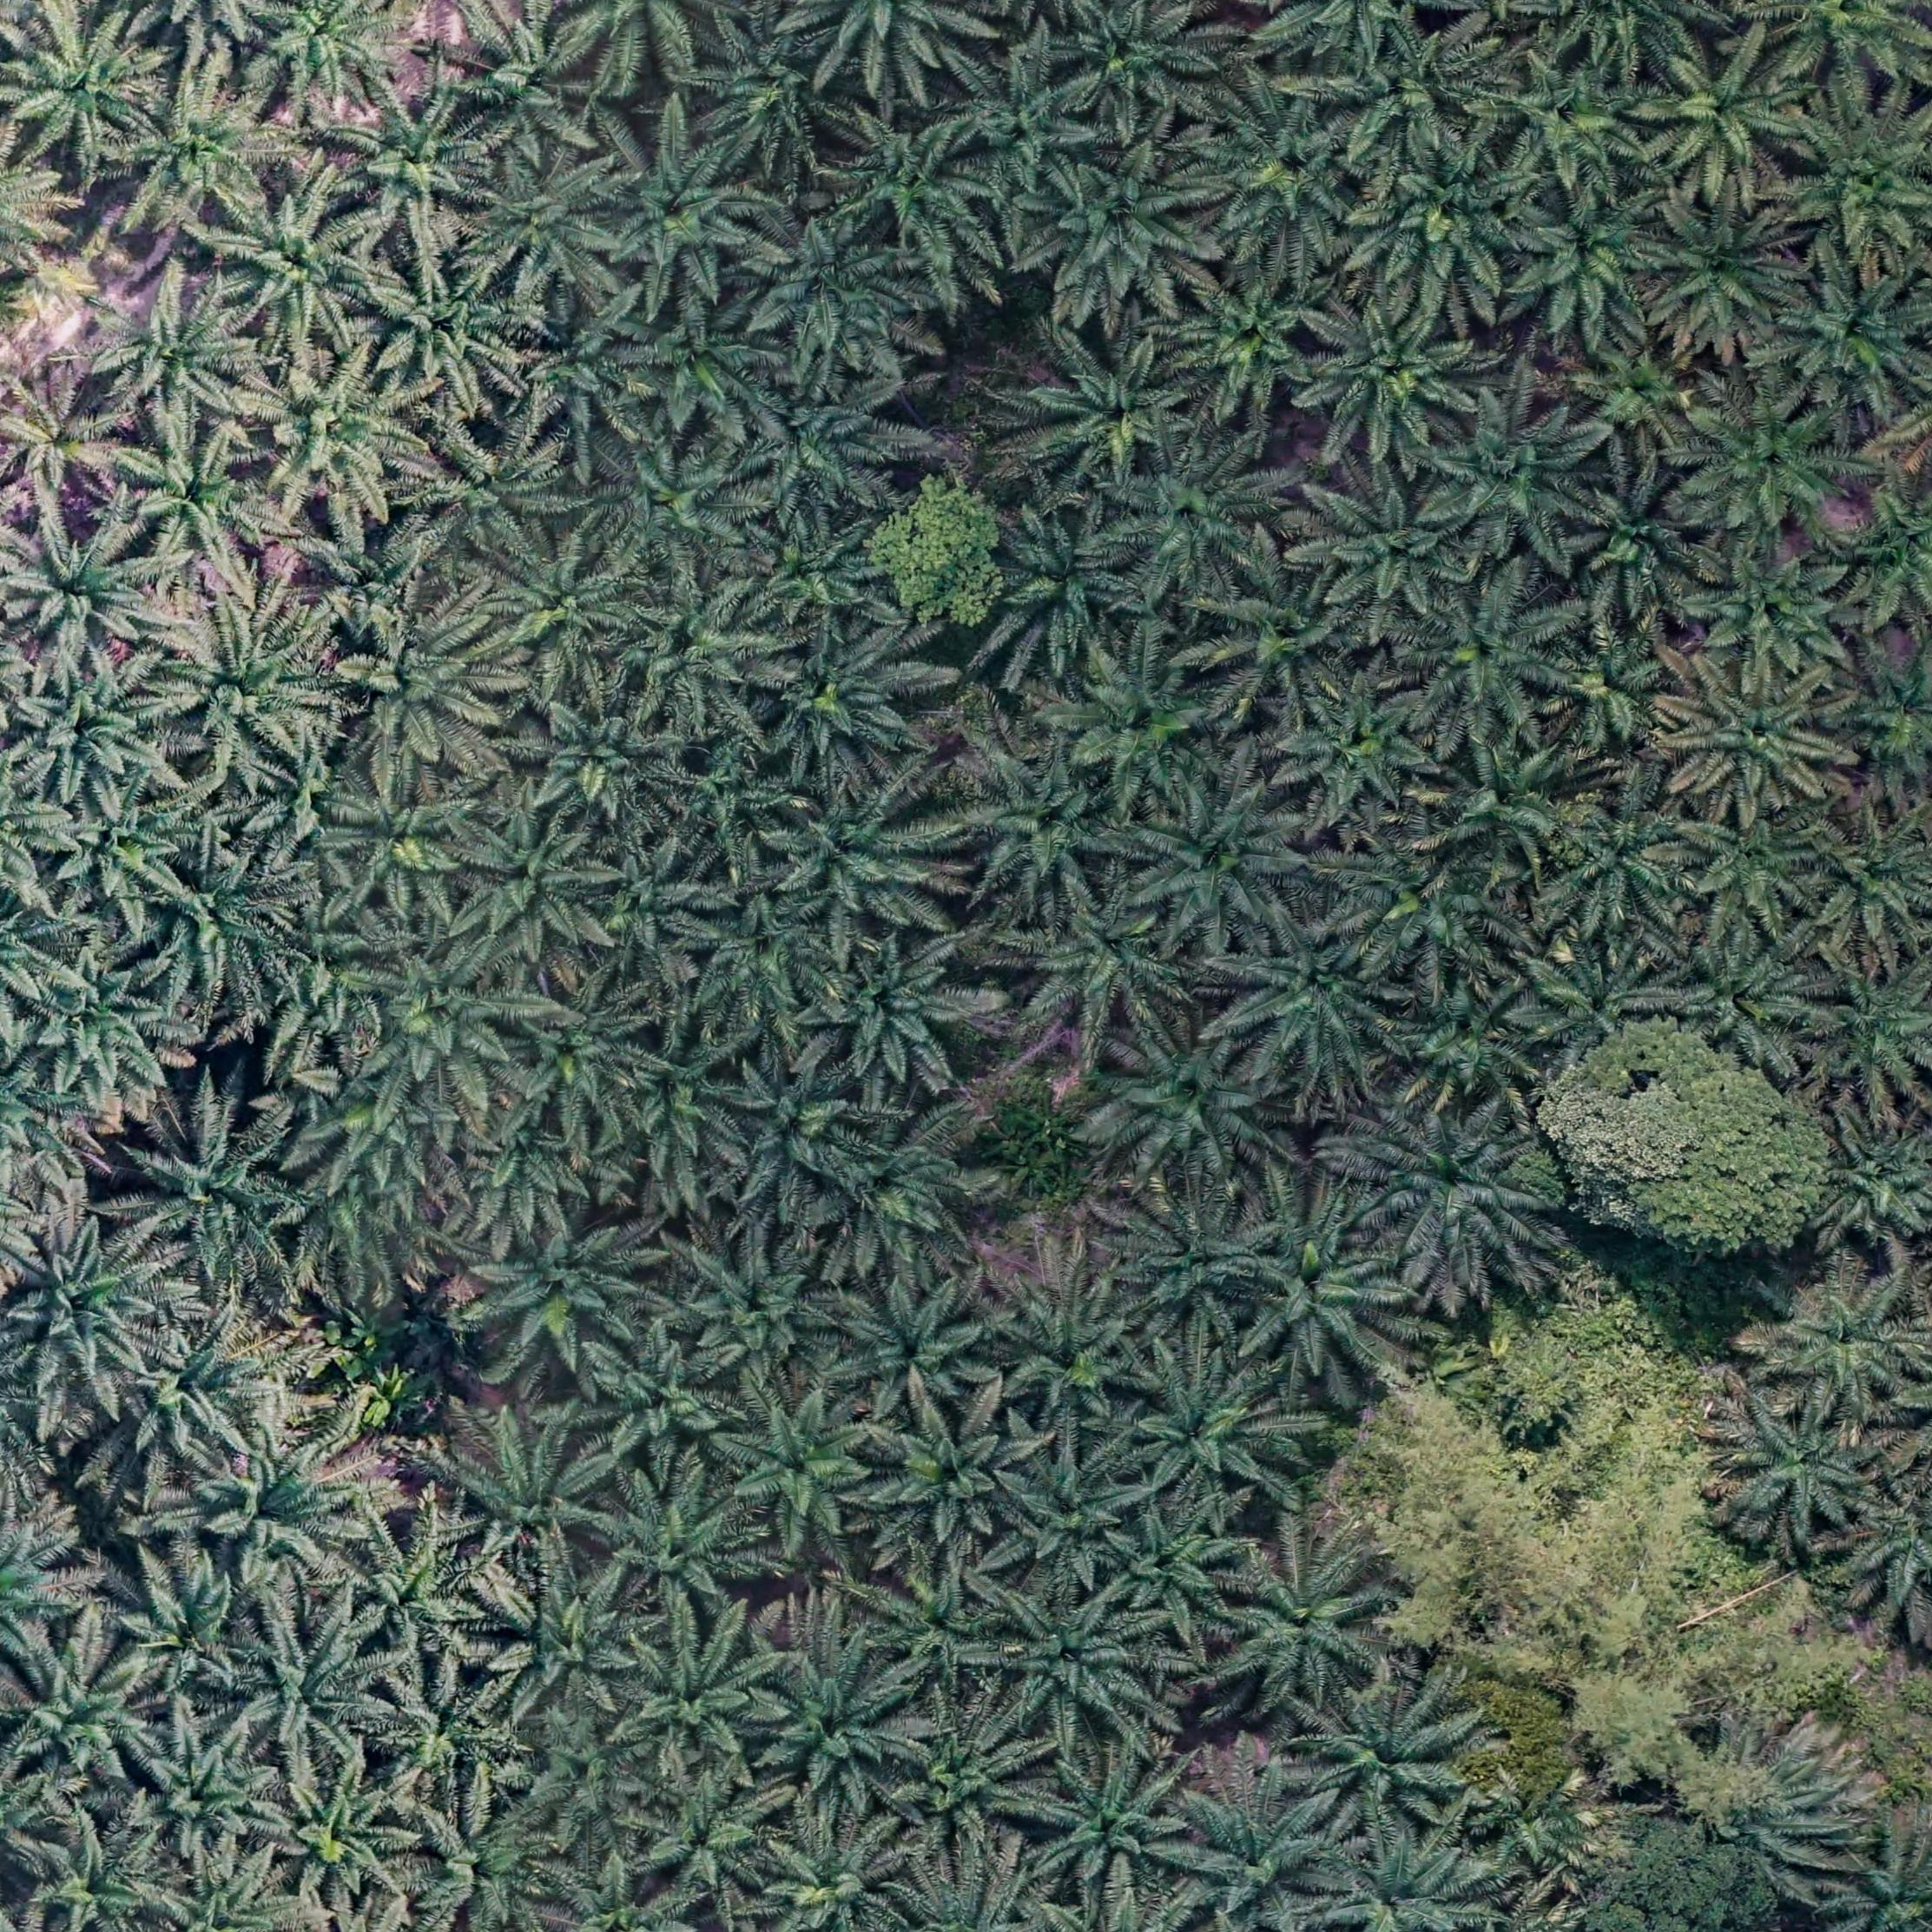palmtree: (5, 1338, 1074, 1925), (961, 957, 1509, 1905), (2, 1035, 554, 1927), (1490, 30, 1927, 1010), (1194, 12, 1925, 568), (317, 639, 924, 1224), (1215, 134, 1665, 895), (511, 1376, 1000, 1923), (99, 21, 534, 556), (1330, 543, 1766, 1054), (464, 895, 936, 1352), (559, 587, 955, 1109), (589, 1269, 959, 1780), (922, 1378, 1263, 1916), (962, 53, 1283, 625), (359, 1224, 821, 1601), (19, 1242, 465, 1629), (7, 513, 382, 964), (1672, 1258, 1932, 1898), (1014, 881, 1366, 1336), (27, 1546, 430, 1928), (0, 39, 308, 518), (1511, 982, 1932, 1325), (1585, 19, 1913, 456), (1509, 1612, 1927, 1914), (948, 731, 1276, 1116), (1169, 844, 1511, 1196), (1270, 396, 1594, 761), (283, 913, 614, 1260), (667, 563, 964, 948), (4, 292, 322, 648), (1284, 731, 1599, 1067), (483, 1566, 770, 1932), (909, 12, 1205, 366), (285, 1509, 536, 1920), (1297, 600, 1601, 936), (952, 1238, 1228, 1591), (1626, 479, 1914, 805), (1504, 878, 1803, 1180), (1198, 1663, 1520, 1928), (303, 1263, 579, 1569), (294, 731, 556, 1047), (1001, 366, 1263, 683), (527, 62, 824, 340), (419, 527, 683, 840), (1702, 1263, 1930, 1624), (793, 14, 1042, 336), (959, 455, 1219, 761), (1730, 21, 1932, 414), (1051, 747, 1311, 1047), (812, 1644, 1086, 1925), (1074, 1316, 1316, 1629), (1104, 1152, 1368, 1435), (1652, 872, 1913, 1159), (681, 1000, 954, 1270), (303, 140, 529, 462), (545, 90, 796, 379), (1279, 9, 1553, 271), (1297, 1088, 1573, 1345), (1069, 952, 1315, 1237), (1316, 83, 1550, 382), (851, 471, 1054, 810), (720, 741, 962, 1019), (313, 30, 531, 338), (1456, 1313, 1721, 1564), (1541, 1026, 1836, 1247), (1346, 1366, 1573, 1652), (639, 1230, 883, 1495), (975, 1392, 1203, 1675), (94, 780, 320, 1060), (221, 280, 453, 552), (962, 1537, 1198, 1805), (5, 897, 230, 1169), (932, 674, 1141, 966), (126, 568, 354, 833), (1603, 25, 1932, 207), (993, 317, 1230, 568), (1207, 901, 1442, 1154), (715, 175, 938, 441), (1178, 1506, 1408, 1759), (895, 1035, 1118, 1290), (99, 1063, 306, 1329), (205, 1564, 419, 1819), (1635, 632, 1863, 870), (609, 557, 828, 803), (1030, 639, 1249, 883), (4, 610, 191, 893), (1200, 1184, 1421, 1422), (81, 267, 285, 525), (403, 786, 626, 1021), (734, 1592, 938, 1849), (324, 582, 540, 823), (195, 165, 409, 405), (550, 980, 748, 1237), (101, 1290, 308, 1523), (557, 1435, 763, 1670), (1621, 14, 1828, 244), (916, 28, 1134, 246), (1387, 373, 1612, 584), (432, 1401, 637, 1631), (977, 1233, 1182, 1463), (5, 1580, 170, 1867), (1661, 357, 1868, 584), (1516, 759, 1720, 989), (83, 21, 290, 246), (1481, 138, 1674, 377), (1355, 589, 1580, 793), (695, 1353, 897, 1580), (478, 669, 672, 902), (5, 510, 179, 766), (110, 1683, 301, 1913), (444, 1205, 655, 1412), (1697, 1716, 1907, 1923), (994, 1732, 1215, 1923), (4, 1215, 168, 1472), (211, 1714, 416, 1909), (1267, 648, 1458, 855), (796, 1267, 985, 1476), (403, 0, 640, 166), (1767, 218, 1930, 451), (1159, 1762, 1389, 1927), (1295, 1672, 1504, 1849), (110, 1546, 295, 1741), (1704, 1369, 1881, 1573), (12, 214, 182, 423), (1304, 283, 1486, 476), (1796, 922, 1932, 1173), (1550, 432, 1720, 632), (494, 1748, 685, 1925), (1339, 274, 1566, 423), (101, 386, 272, 580), (1741, 1267, 1921, 1449), (782, 4, 1001, 152), (729, 1760, 929, 1923), (1539, 1545, 1702, 1744), (1035, 140, 1196, 341), (5, 5, 177, 193), (1635, 186, 1806, 372), (157, 1417, 343, 1582), (860, 1375, 1016, 1564), (1168, 255, 1325, 437), (617, 1764, 798, 1921), (1307, 1803, 1529, 1927), (1461, 1304, 1629, 1463), (258, 1757, 412, 1923), (0, 343, 143, 515), (860, 472, 1008, 632), (959, 336, 1113, 485), (1461, 1780, 1608, 1925), (1562, 1652, 1713, 1794), (1444, 1672, 1587, 1817), (55, 209, 196, 354), (196, 1355, 347, 1491), (299, 1299, 449, 1433), (1573, 1813, 1739, 1928), (246, 2, 393, 122), (1736, 1633, 1881, 1752), (1835, 1456, 1932, 1629), (966, 1081, 1102, 1205), (21, 446, 133, 573), (1146, 1672, 1274, 1759), (354, 11, 449, 126), (720, 1564, 867, 1638), (1838, 1644, 1928, 1764), (961, 1217, 1083, 1304), (5, 246, 106, 345), (1180, 1729, 1277, 1829), (1849, 1794, 1932, 1911), (1263, 402, 1361, 499), (985, 1005, 1085, 1092), (1775, 1658, 1867, 1737), (294, 1442, 400, 1507), (1858, 407, 1932, 487), (347, 1364, 421, 1433), (5, 175, 87, 230), (396, 4, 472, 62), (221, 1323, 308, 1369), (249, 538, 308, 598), (1815, 490, 1868, 536), (1247, 157, 1297, 191), (1063, 1352, 1102, 1394), (1047, 1065, 1085, 1108), (359, 1389, 393, 1428), (1849, 334, 1882, 370), (1108, 414, 1134, 458), (812, 685, 842, 713), (1453, 644, 1481, 665)
